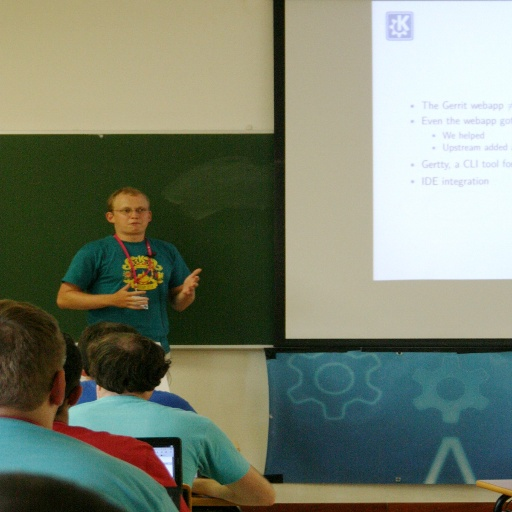hand: (105, 282, 149, 311), (176, 267, 202, 301)
